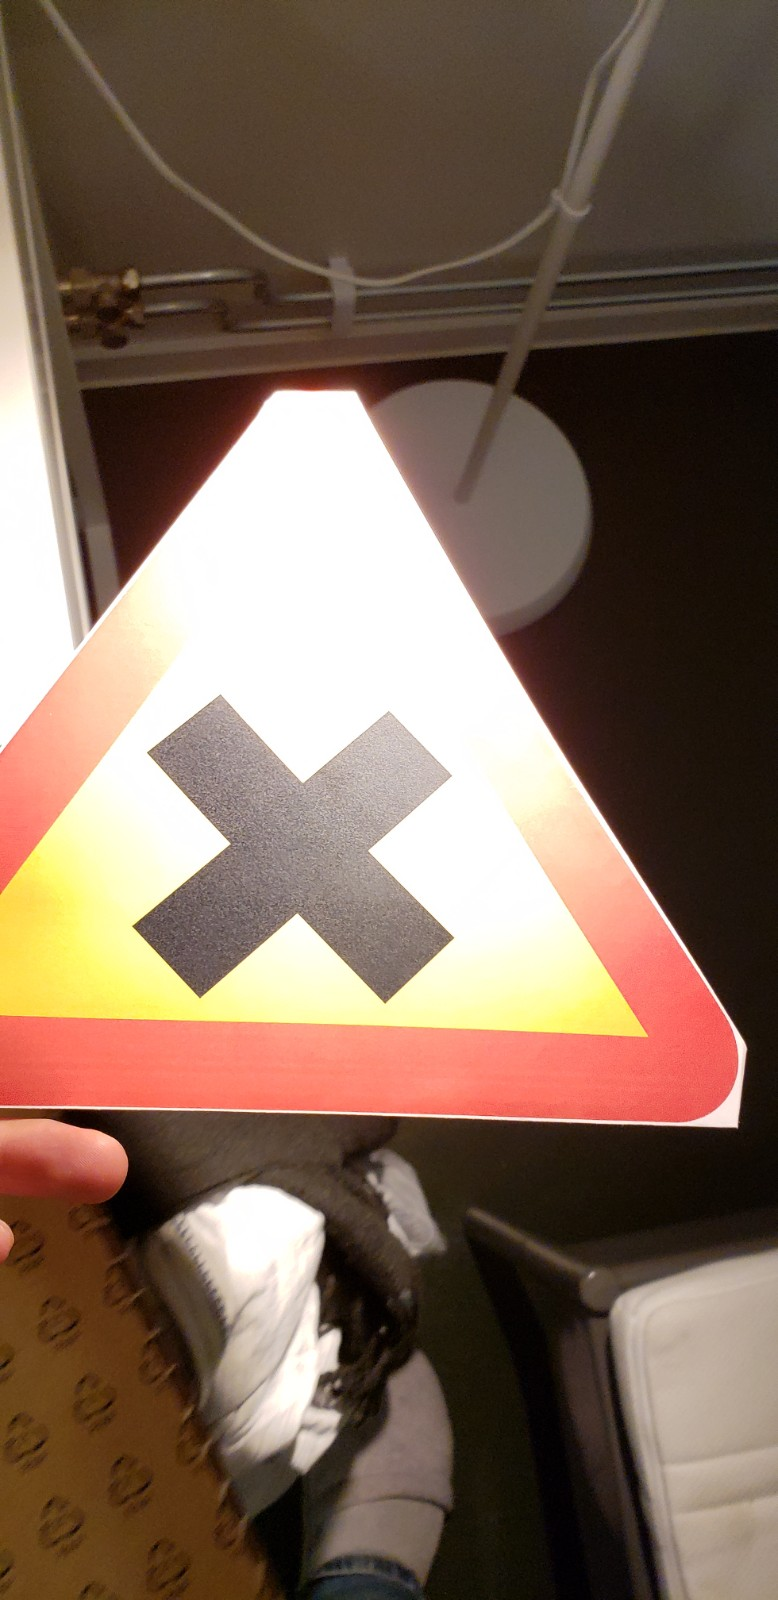junction: (3, 318, 778, 1178)
